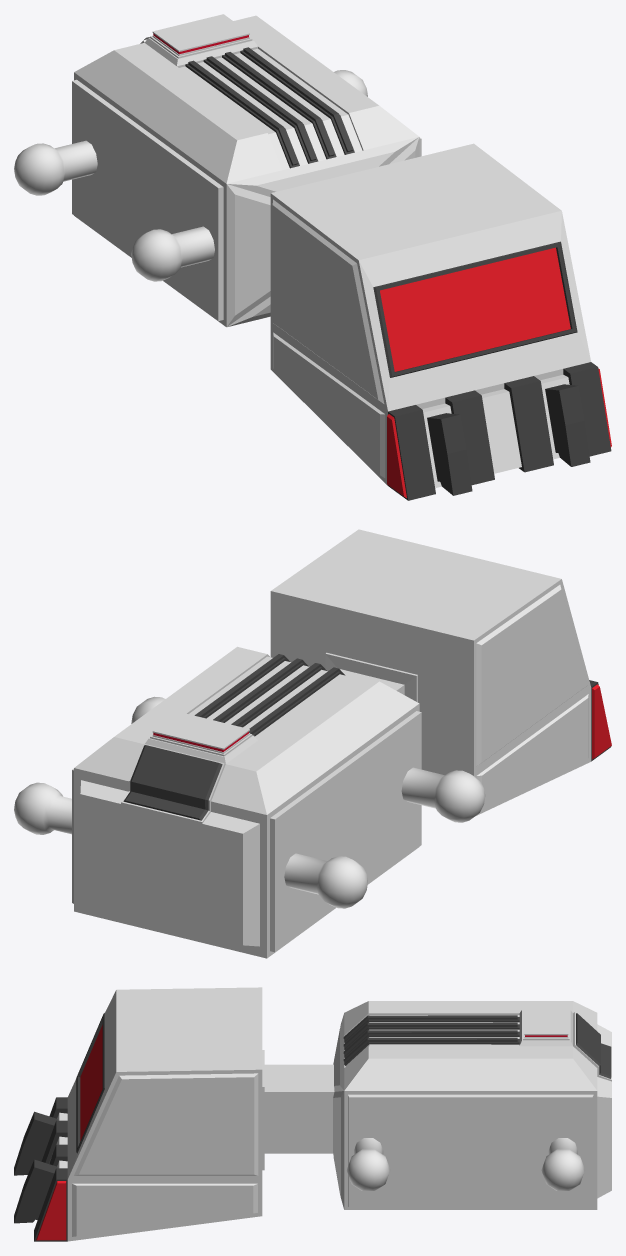
Rendered from spiderFinal.fbx.
The picture shows the model from 3 angles, top to bottom: view 1: azimuth 30°, elevation 25°; view 2: azimuth 150°, elevation 25°; view 3: azimuth 270°, elevation 25°; orthographic projection. The views are drawn at different scales.
Parts seen in each view (by area): view 1: head, body, joint3, joint4; view 2: body, head, joint4, joint3, joint2; view 3: body, head, joint2, joint1.
Boxes of the visible parts, x1=… form: head: x1=270, y1=143, x2=611, y2=500; body: x1=72, y1=14, x2=421, y2=327; joint3: x1=131, y1=226, x2=214, y2=281; joint4: x1=14, y1=140, x2=97, y2=195; body: x1=72, y1=646, x2=421, y2=958; head: x1=270, y1=529, x2=611, y2=816; joint4: x1=284, y1=853, x2=367, y2=908; joint3: x1=401, y1=767, x2=485, y2=822; joint2: x1=14, y1=782, x2=71, y2=834; body: x1=262, y1=1001, x2=611, y2=1209; head: x1=14, y1=987, x2=262, y2=1241; joint2: x1=541, y1=1138, x2=584, y2=1190; joint1: x1=346, y1=1138, x2=390, y2=1190.
Bounding box in the file's own units: 684 × 410 × 1228.
